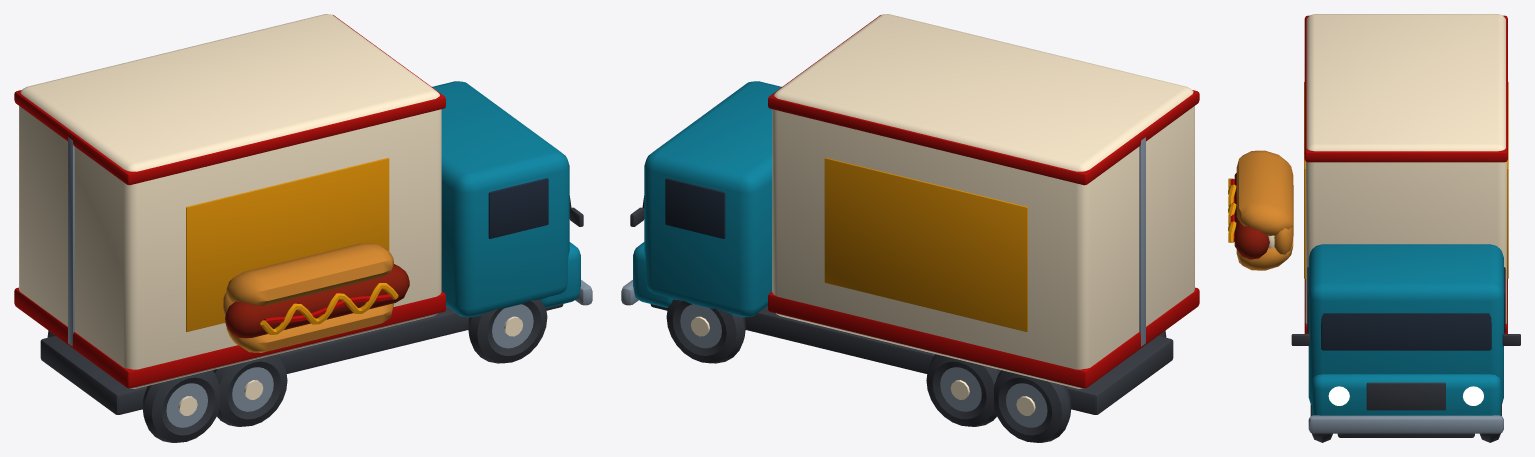
The model's file is DepotTruck.fbx.
The picture shows the model from 3 angles, left to right: view 1: azimuth 30°, elevation 25°; view 2: azimuth 150°, elevation 25°; view 3: azimuth 270°, elevation 25°; orthographic projection. The views are drawn at different scales.
Parts seen in each view (by area): view 1: DepotTruck; view 2: DepotTruck; view 3: DepotTruck.
Boxes of the visible parts, left/top/right/bottom form: DepotTruck: left=14, top=14, right=592, bottom=442; DepotTruck: left=621, top=14, right=1199, bottom=442; DepotTruck: left=1228, top=14, right=1520, bottom=442.
Bounding box in the file's own units: 15.71 × 9.43 × 9.6.
